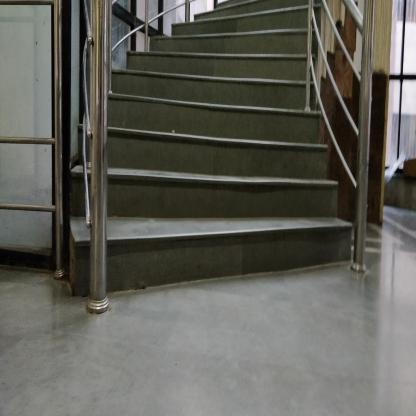stairs: (128, 137, 318, 300)
